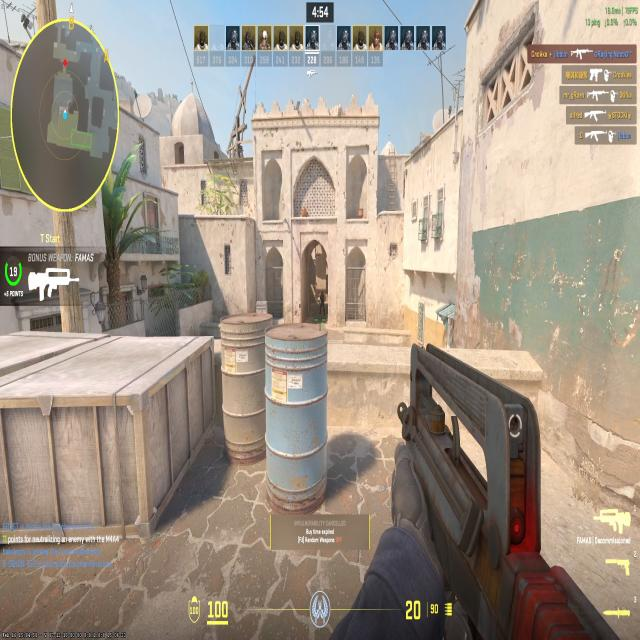player: (319, 288, 328, 318)
